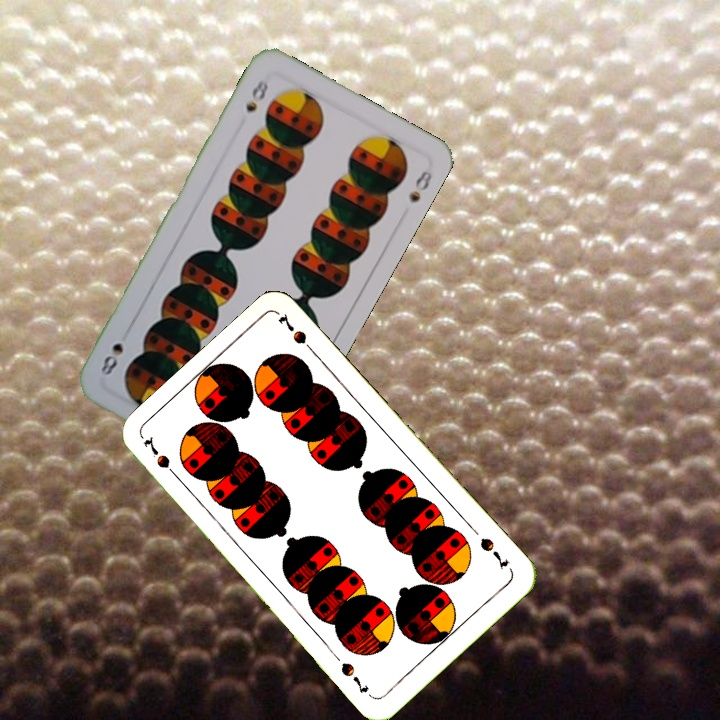S7: (139, 432, 183, 483), (475, 534, 511, 573)
S8: (241, 75, 271, 115)
